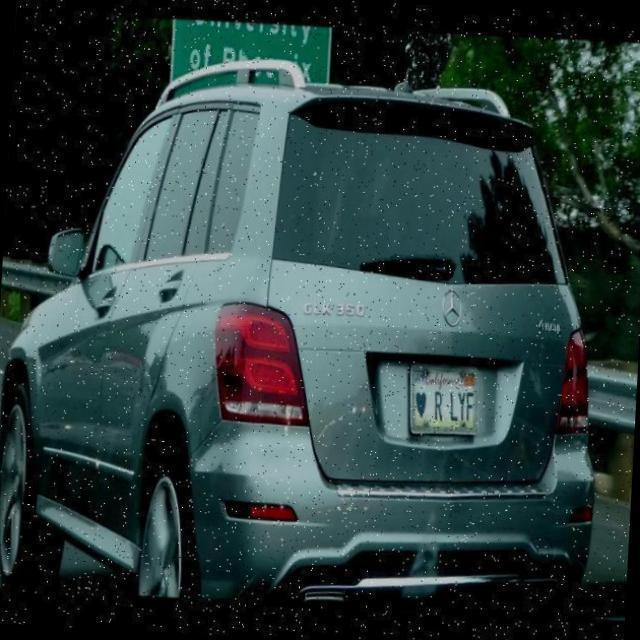license_plate: (394, 344, 490, 444)
